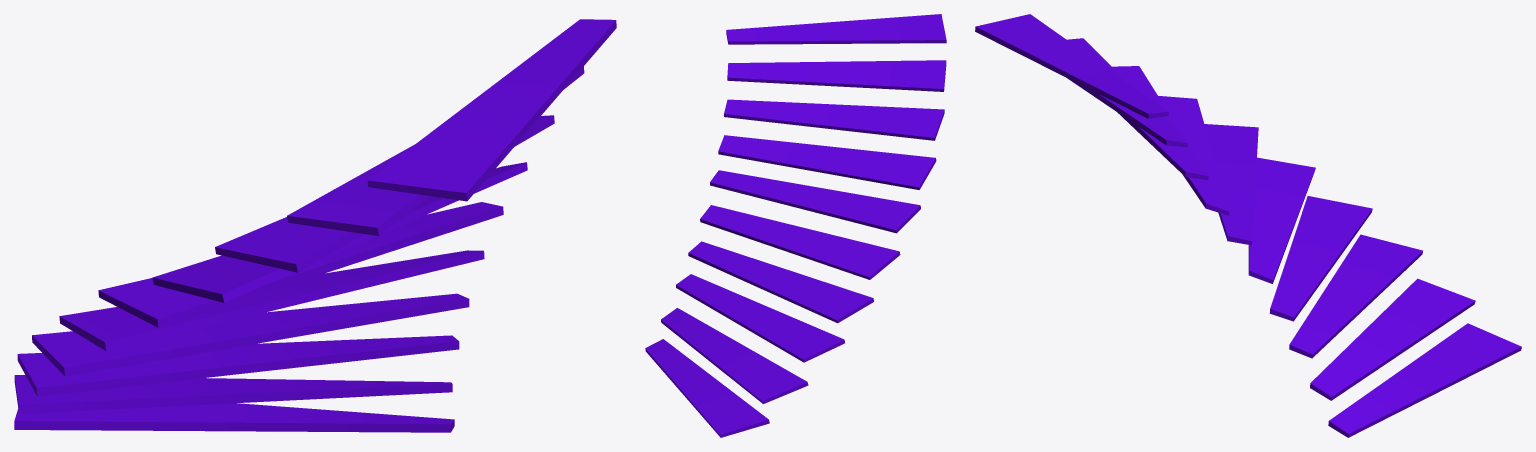
Rendered from Stone_Stairs_Medium_B.fbx.
The picture shows the model from 3 angles, left to right: view 1: azimuth 30°, elevation 25°; view 2: azimuth 150°, elevation 25°; view 3: azimuth 270°, elevation 25°; orthographic projection. The views are drawn at different scales.
Visible parts, largest first — view 1: Stone_Stairs_Medium_B; view 2: Stone_Stairs_Medium_B; view 3: Stone_Stairs_Medium_B.
Part boxes in pixels (box(x1,y1,x2,y2)): Stone_Stairs_Medium_B: box(14, 19, 616, 432); Stone_Stairs_Medium_B: box(645, 14, 946, 437); Stone_Stairs_Medium_B: box(975, 14, 1521, 437).
Bounding box in the file's own units: 225 × 263 × 402.
